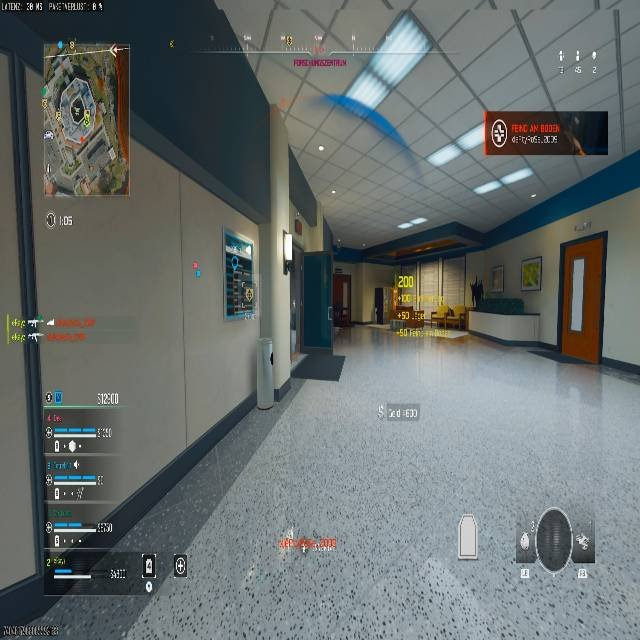player: (470, 278, 484, 308)
